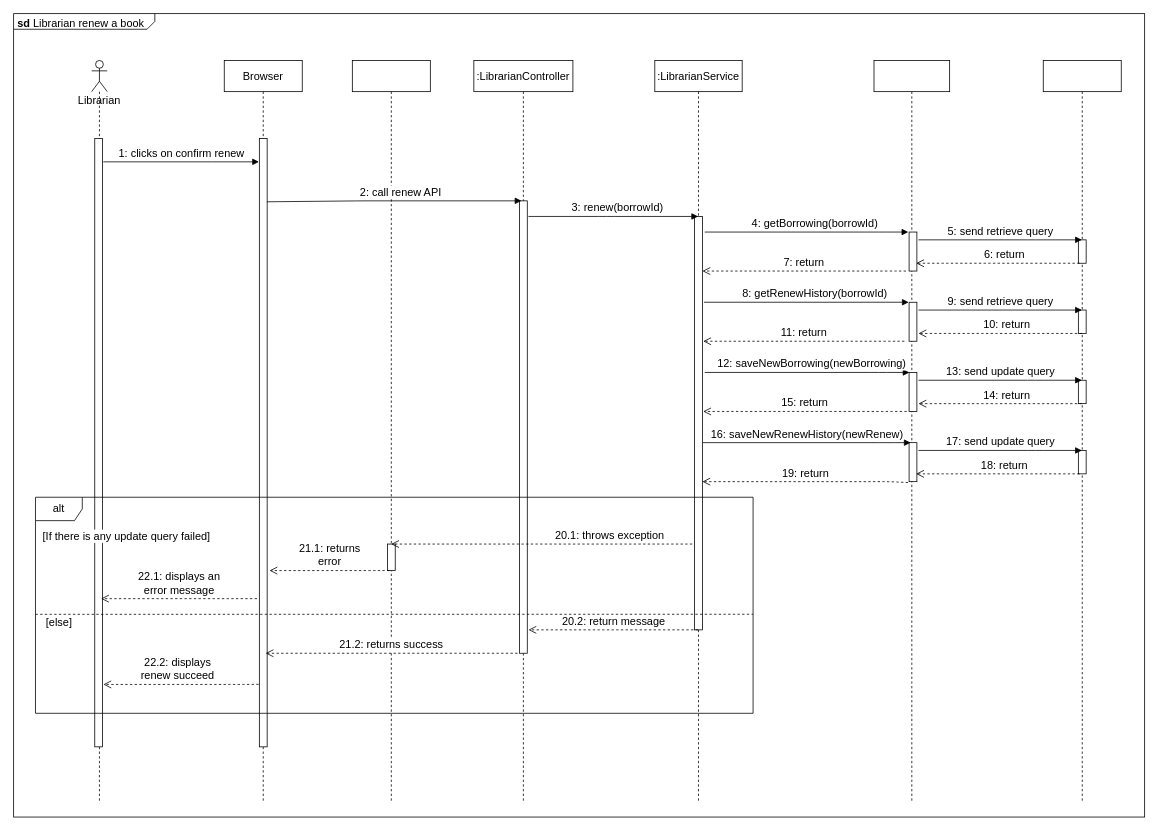
This 1158x831 diagram has some shape labels left out. The box of each missing label's shape, as (x1, y1, x2, y2) in pixels:
:Exception Handler: (352, 60, 430, 801)
:Repository: (873, 60, 950, 801)
Database: (1042, 60, 1121, 801)
